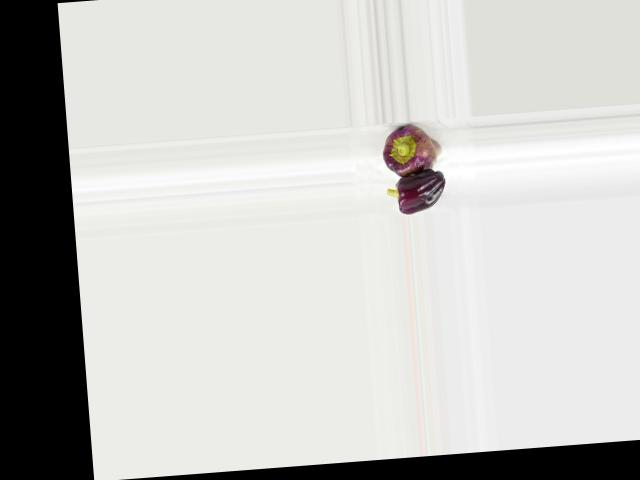bell_pepper: (369, 120, 453, 180)
